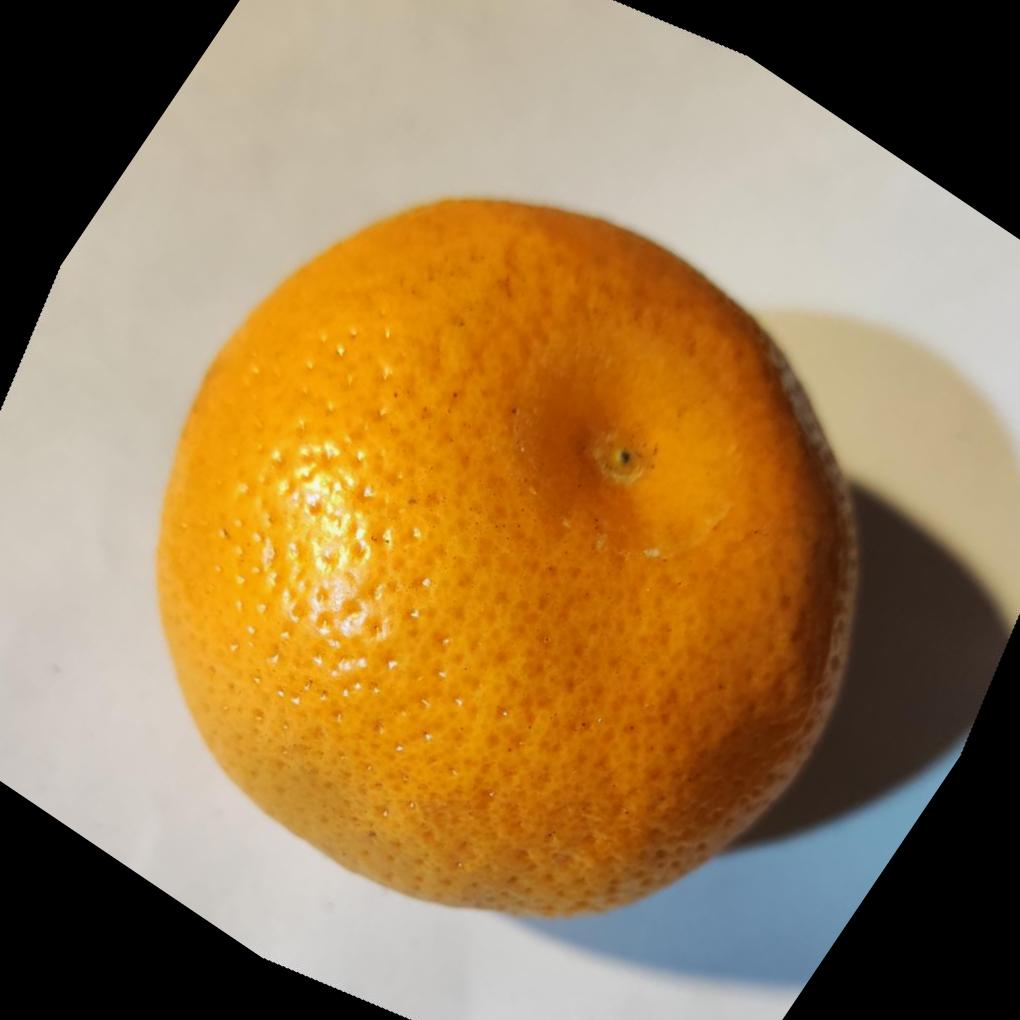FreshGuava: (153, 197, 864, 924)
